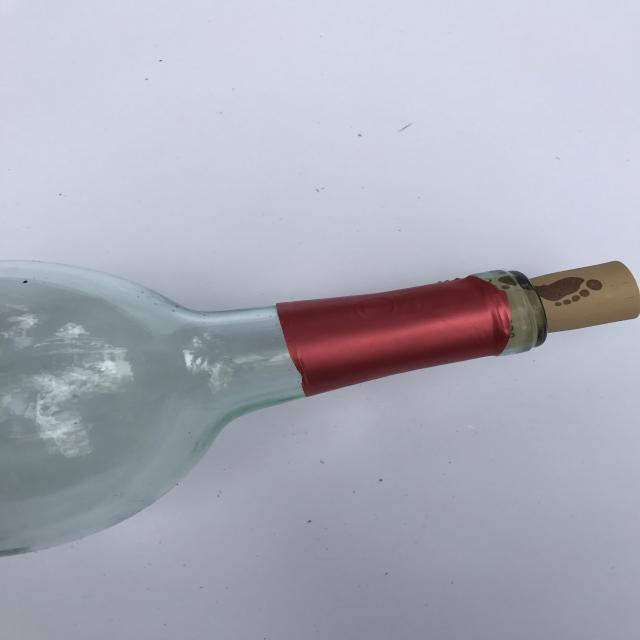glass: (1, 256, 638, 556)
